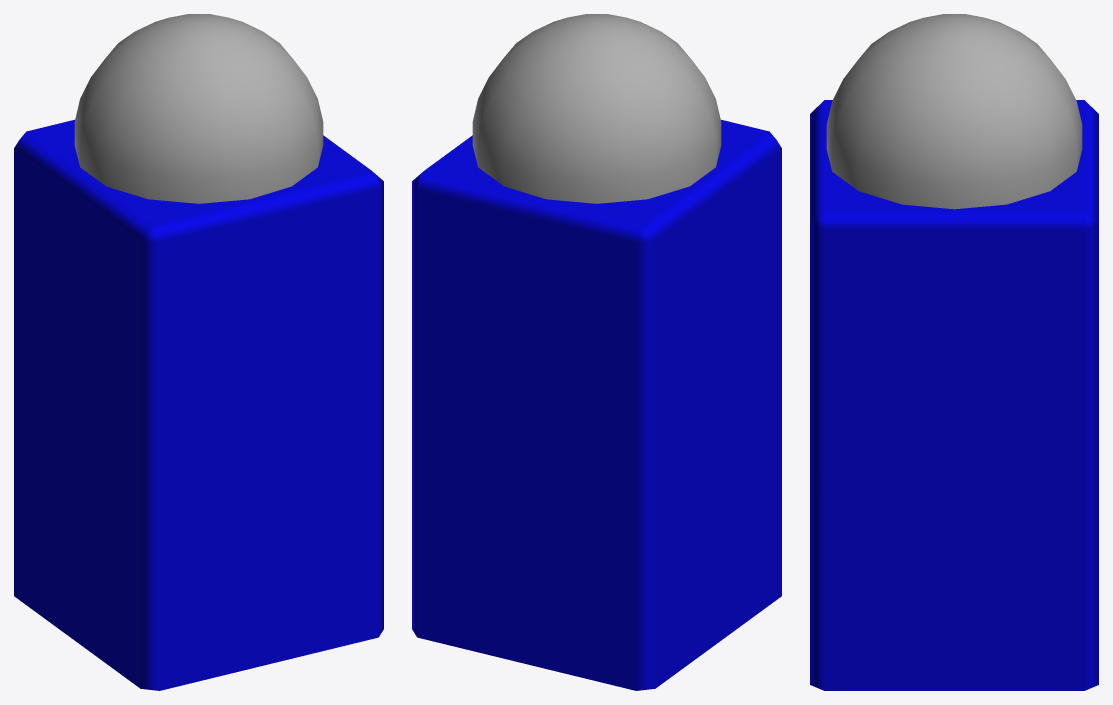
File: Dom_znati_stolbik.fbx
The picture shows the model from 3 angles, left to right: view 1: azimuth 30°, elevation 25°; view 2: azimuth 150°, elevation 25°; view 3: azimuth 270°, elevation 25°; orthographic projection. The views are drawn at different scales.
Parts seen in each view (by area): view 1: Dom_znati_stolbik; view 2: Dom_znati_stolbik; view 3: Dom_znati_stolbik.
Boxes of the visible parts, box(x1,y1,x2,y2) form: Dom_znati_stolbik: box(14, 14, 383, 690); Dom_znati_stolbik: box(412, 14, 781, 690); Dom_znati_stolbik: box(810, 14, 1098, 690).
Size of the model in its own units: 4.29 by 9.89 by 4.29.
